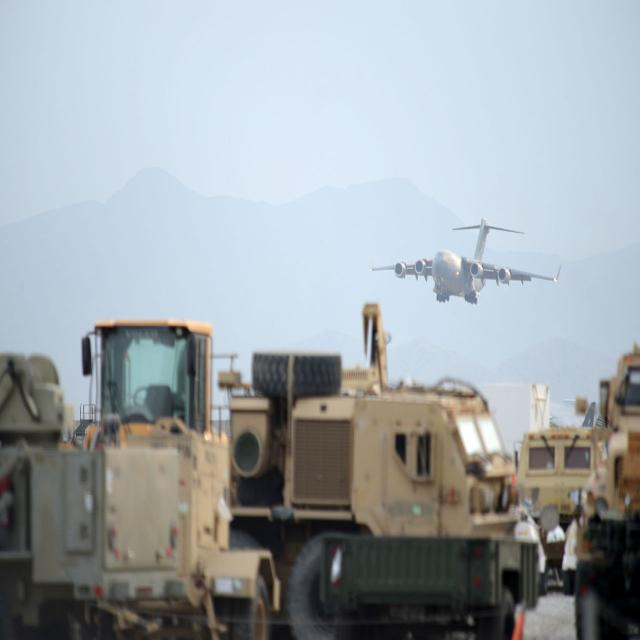MIL_Plane: (0, 213, 178, 300)
